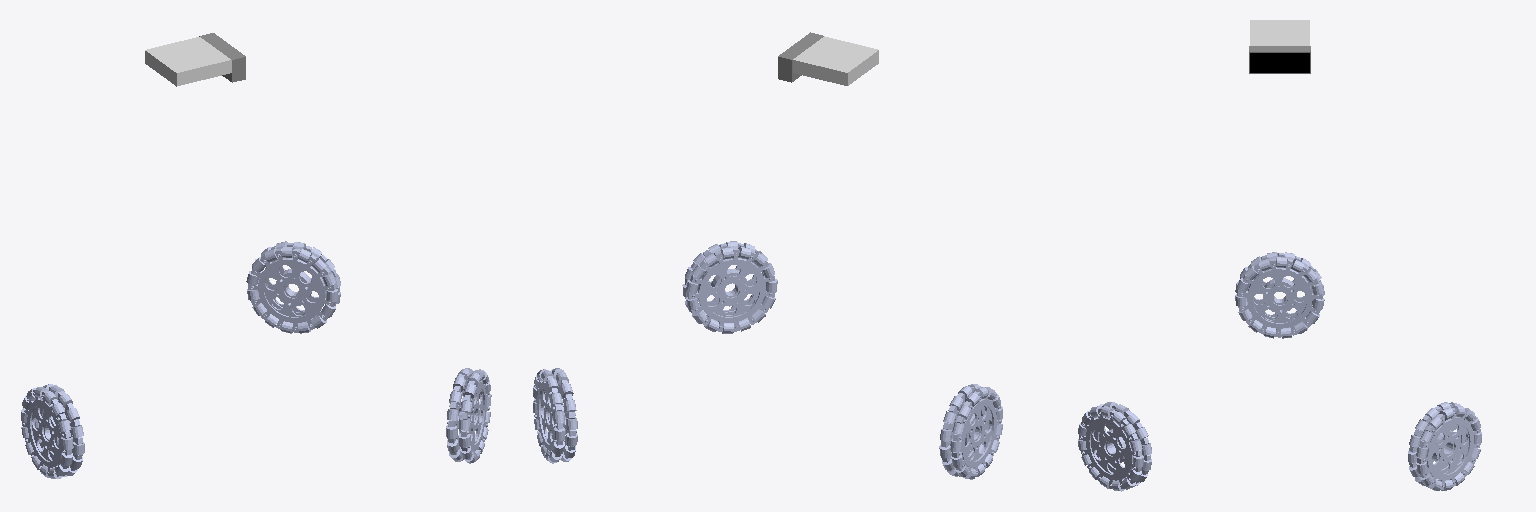
URDF robot description (robotbase):
<?xml version="1.0" encoding="utf-8"?>
<!-- This URDF was automatically created by SolidWorks to URDF Exporter! Originally created by [author] ([email redacted]) 
     Commit Version: 1.5.1-0-g916b5db  Build Version: 1.5.7152.31018
     For more information, please see http://wiki.ros.org/sw_urdf_exporter -->
<robot
  name="robotbase">
  <link name="base_footprint"/>
  <joint name="base_joint" type="fixed">
    <parent link="base_footprint"/>
    <child link="base_link"/>
    <origin xyz="0.0 0.0 0.010" rpy="0 0 -1.5707"/>
  </joint>

  <link
    name="base_link">
    <inertial>
      <origin
        xyz="0.0317095416007534 0.00585954573908961 -0.0152243764730905"
        rpy="0 0 0" />
      <mass
        value="1.17424291261763" />
      <inertia
        ixx="0.00248432843336696"
        ixy="-1.47224274103694E-07"
        ixz="1.4747915255414E-05"
        iyy="0.00646656944346282"
        iyz="1.76186370908733E-06"
        izz="0.00420898613081866" />
    </inertial>
    <visual>
      <origin
        xyz="0 0 0"
        rpy="0 0 0" />
      <geometry>
        <mesh
          filename="package://robotbase/meshes/base_link.STL" />
      </geometry>
      <material
        name="">
        <color
          rgba="0.898039215686275 0.917647058823529 0.929411764705882 1" />
      </material>
    </visual>
    <collision>
      <origin
        xyz="0 0 0"
        rpy="0 0 0" />
      <geometry>
        <mesh
          filename="package://robotbase/meshes/base_link.STL" />
      </geometry>
    </collision>
  </link>
  <link
    name="wheel_1">
    <inertial>
      <origin
        xyz="0.0458771944899619 0.273062342112664 0.00546218671817029"
        rpy="0 0 0" />
      <mass
        value="2.11190311993617" />
      <inertia
        ixx="0.125143591732326"
        ixy="0.0213467042368404"
        ixz="0.00288420835824469"
        iyy="0.133607452018479"
        iyz="0.000848099165999844"
        izz="0.254298069907116" />
    </inertial>
    <visual>
      <origin
        xyz="0 0 0"
        rpy="0 0 0" />
      <geometry>
        <mesh
          filename="package://robotbase/meshes/wheel_1.STL" />
      </geometry>
      <material
        name="">
        <color
          rgba="0.792156862745098 0.819607843137255 0.933333333333333 1" />
      </material>
    </visual>
    <collision>
      <origin
        xyz="0 0 0"
        rpy="0 0 0" />
      <geometry>
        <mesh
          filename="package://robotbase/meshes/wheel_1.STL" />
      </geometry>
    </collision>
  </link>

  <link name = "hokuyo_link">
      <inertial>
          <mass value="0.1" />
          <origin xyz="0 0 0" rpy="0 0 0"/>
          <inertia ixx="1e-6" ixy="0" ixz="0" iyy="1e-6" iyz="0" izz="1e-6" />
      </inertial>
      <collision>
          <origin xyz = "0 0 0" rpy = "0 0 0"/>
          <geometry>
              <cylinder radius="0.05" length="0.1"/>
          </geometry>
      </collision>
      <visual>
          <origin xyz = "0 0 0" rpy = "0 0 0"/>
          <geometry>
              <mesh filename="package://robotbase/meshes/hokuyo.dae"/>
          </geometry>
      </visual>
  </link>

  <joint name ="hokuyo2world" type = "fixed">
      <axis xyz = "0 0 0" />
      <origin xyz="0 0 0.3" rpy="0 0 0"/>
      <parent link="base_footprint"/>
      <child link="hokuyo_link"/>
  </joint>

  <joint
    name="wheel_joint_1"
    type="continuous">
    <origin
      xyz="-0.205579586803807 0.205579586803807 0.025525"
      rpy="-3.12287874080334 0.00789732473317189 0.772154897409695" />
    <parent
      link="base_link" />
    <child
      link="wheel_1" />
    <axis
      xyz="0.0132424659193927 0.9997352674052 -0.0188157434779373" />
  </joint>
  <link
    name="wheel_2">
    <inertial>
      <origin
        xyz="0.0249361037302708 0.344076787772775 -0.00525954032226627"
        rpy="0 0 0" />
      <mass
        value="2.11190311993617" />
      <inertia
        ixx="0.176851164364651"
        ixy="0.0140731171262247"
        ixz="-0.0574672883301494"
        iyy="0.124722094801253"
        iyz="0.016639734965707"
        izz="0.211475854492017" />
    </inertial>
    <visual>
      <origin
        xyz="0 0 0"
        rpy="0 0 0" />
      <geometry>
        <mesh
          filename="package://robotbase/meshes/wheel_2.STL" />
      </geometry>
      <material
        name="">
        <color
          rgba="0.792156862745098 0.819607843137255 0.933333333333333 1" />
      </material>
    </visual>
    <collision>
      <origin
        xyz="0 0 0"
        rpy="0 0 0" />
      <geometry>
        <mesh
          filename="package://robotbase/meshes/wheel_2.STL" />
      </geometry>
    </collision>
  </link>
  <joint
    name="wheel_joint_2"
    type="continuous">
    <origin
      xyz="0.273359702677944 0.273359702677944 0.025524999999999"
      rpy="0.0283684725139944 0.624739352427002 2.37252145313176" />
    <parent
      link="base_link" />
    <child
      link="wheel_2" />
    <axis
      xyz="0.0132424659193958 0.9997352674052 -0.0188157434779366" />
  </joint>
  <link
    name="wheel_3">
    <inertial>
      <origin
        xyz="-0.0153682388591595 0.340029706879059 -0.000428568532610744"
        rpy="0 0 0" />
      <mass
        value="2.11190311993617" />
      <inertia
        ixx="0.158038000924784"
        ixy="0.00285067819372706"
        ixz="-0.0267302850342901"
        iyy="0.108281483822745"
        iyz="0.00660110986486032"
        izz="0.246729628910391" />
    </inertial>
    <visual>
      <origin
        xyz="0 0 0"
        rpy="0 0 0" />
      <geometry>
        <mesh
          filename="package://robotbase/meshes/wheel_3.STL" />
      </geometry>
      <material
        name="">
        <color
          rgba="0.792156862745098 0.819607843137255 0.933333333333333 1" />
      </material>
    </visual>
    <collision>
      <origin
        xyz="0 0 0"
        rpy="0 0 0" />
      <geometry>
        <mesh
          filename="package://robotbase/meshes/wheel_3.STL" />
      </geometry>
    </collision>
  </link>
  <joint
    name="wheel_joint_3"
    type="continuous">
    <origin
      xyz="0 -0.297733077767124 0.025525000000001"
      rpy="-3.11920659587766 -0.263132299010667 3.12787770373792" />
    <parent
      link="base_link" />
    <child
      link="wheel_3" />
    <axis
      xyz="0.0132424659193945 0.9997352674052 -0.0188157434779373" />
  </joint>

  <gazebo reference="wheel_1">
    <mu1>0.1</mu1>
    <mu2>0.1</mu2>
    <kp>500000.0</kp>
    <kd>10.0</kd>
    <minDepth>0.001</minDepth>
    <maxVel>0.1</maxVel>
    <fdir1>1 0 0</fdir1>
    <material>Gazebo/FlatBlack</material>
  </gazebo>

  <gazebo reference="wheel_2">
    <mu1>0.1</mu1>
    <mu2>0.1</mu2>
    <kp>500000.0</kp>
    <kd>10.0</kd>
    <minDepth>0.001</minDepth>
    <maxVel>0.1</maxVel>
    <fdir1>1 0 0</fdir1>
    <material>Gazebo/FlatBlack</material>
  </gazebo>

  <gazebo reference="wheel_3">
    <mu1>0.1</mu1>
    <mu2>0.1</mu2>
    <kp>500000.0</kp>
    <kd>10.0</kd>
    <minDepth>0.001</minDepth>
    <maxVel>0.1</maxVel>
    <fdir1>1 0 0</fdir1>
    <material>Gazebo/FlatBlack</material>
  </gazebo>

  <!-- hokuyo -->
    <gazebo reference="hokuyo_link">
      <sensor type="gpu_ray" name="head_hokuyo_sensor">
        <pose>0 0 0 0 0 0</pose>
        <visualize>true</visualize>
        <update_rate>40</update_rate>
        <ray>
          <scan>
            <horizontal>
              <samples>1080</samples>
              <resolution>1</resolution>
              <min_angle>-2.35619449</min_angle>
              <max_angle>2.35619449</max_angle>
            </horizontal>
          </scan>
          <range>
            <min>0.10</min>
            <max>30.0</max>
            <resolution>0.01</resolution>
          </range>
          <noise>
            <type>gaussian</type>
            <!-- Noise parameters based on published spec for Hokuyo laser
                 achieving "+-30mm" accuracy at range < 10m.  A mean of 0.0m and
                 stddev of 0.01m will put 99.7% of samples within 0.03m of the true
                 reading. -->
            <mean>0.0</mean>
            <stddev>0.01</stddev>
          </noise>
        </ray>
        <plugin name="gazebo_ros_hokuyo_controller" filename="libgazebo_ros_gpu_laser.so">
          <topicName>/scan</topicName>
          <frameName>hokuyo_link</frameName>
        </plugin>
      </sensor>
    </gazebo>

    <gazebo>
    <!-- If not have roopod_control_plugin -->
    <!-- <plugin name="object_controller" filename="libgazebo_ros_planar_move.so">
      <commandTopic>cmd_vel</commandTopic>
      <odometryTopic>odom</odometryTopic>
      <odometryFrame>odom</odometryFrame>
      <odometryRate>20.0</odometryRate>
      <robotbaseFrame>base_footprint</robotbaseFrame>
    </plugin> -->

    <!-- From lib fix slow gravity -->
    <plugin name="object_controller" filename="libropod_control_plugin.so">
      <commandTopic>cmd_vel</commandTopic>
      <odometryTopic>odom</odometryTopic>
      <odometryFrame>odom</odometryFrame>
      <odometryRate>20.0</odometryRate>
      <robotbaseFrame>base_footprint</robotbaseFrame>
    </plugin>
  </gazebo>

  <material name="black">
    <color rgba="0. 0. 0. 1" />
    <ambient>0.5 0.75 0 1</ambient>
    <diffuse>0 0 0 1</diffuse>
    <specular>0.2 0.2 0.2 64</specular>
    <emissive>0.1 0 0.1 1</emissive>
  </material>
  <material name="grey">
    <color rgba="0.6 0.6 0.6 1" />
    <ambient>0.5 0.75 0 1</ambient>
    <diffuse>0.6 0.6 0.6 1</diffuse>
    <specular>0.2 0.2 0.2 64</specular>
    <emissive>0.1 0 0.1 1</emissive>
  </material>
  <material name="white">
    <color rgba="0.9 0.9 0.9 1" />
    <ambient>0.5 0.75 0 1</ambient>
    <diffuse>0.9 0.9 0.9 1</diffuse>
    <specular>0.2 0.2 0.2 64</specular>
    <emissive>0.1 0 0.1 1</emissive>
  </material>

  <joint name = "camera_joint" type = "fixed">
      <axis xyz = "0 0 0" />
      <origin xyz="0 0 0.6" rpy="0 0 1.5707"/>
      <parent link="base_link"/>
      <child link="camera_base_link"/>
  </joint>

  <link name="camera_body">
    <inertial>
        <mass value="0.1" />
        <origin xyz="0 0 0" rpy="0 0 0"/>
        <inertia ixx="1e-6" ixy="0" ixz="0" iyy="1e-6" iyz="0" izz="1e-6" />
    </inertial>
    <collision>
        <origin xyz = "0 0 0" rpy = "0 0 0"/>
        <geometry>
            <box size="0.0994 0.0996 0.023" />
        </geometry>
    </collision>
    <visual>
      <origin xyz="0. 0. 0." />
      <geometry>
        <box size="0.0994 0.0996 0.023" />
      </geometry>
      <material name="white" />
    </visual>
  </link>

  <link name = "camera_base_link">
    <inertial>
        <mass value="0.1" />
        <origin xyz="0 0 0" rpy="0 0 0"/>
        <inertia ixx="1e-6" ixy="0" ixz="0" iyy="1e-6" iyz="0" izz="1e-6" />
    </inertial>
    <collision>
        <origin xyz = "-0.013 0. 0." rpy = "0 0 0"/>
        <geometry>
            <box size="0.026 0.103 0.039" />
        </geometry>
    </collision>
    <visual>
      <origin xyz="-0.013 0. 0." />
      <geometry>
        <box size="0.026 0.103 0.039" />
      </geometry>
      <material name="grey" />
    </visual>
  </link>

  <link name = "camera_visor">
    <inertial>
        <mass value="0.1" />
        <origin xyz="0 0 0" rpy="0 0 0"/>
        <inertia ixx="1e-6" ixy="0" ixz="0" iyy="1e-6" iyz="0" izz="1e-6" />
    </inertial>
    <collision>
        <origin xyz = "-0.0128 0. 0." rpy = "0 0 0"/>
        <geometry>
            <box size="0.026 0.101 0.037" />
        </geometry>
    </collision>
    <visual>
      <origin xyz="-0.0128 0. 0." />
      <geometry>
        <box size="0.026 0.101 0.037" />
      </geometry>
      <material name="black" />
    </visual>
  </link>

  <joint name="camera_base_to_body" type="fixed">
    <parent link="camera_base_link" />
    <child link="camera_body" />
    <origin xyz="-0.0757 0. 0.008" rpy="0. 0. 0." />
  </joint>

  <joint name="camera_base_to_visor" type="fixed">
    <parent link="camera_base_link" />
    <child link="camera_visor" />
    <origin xyz="0. 0. 0." rpy="0. 0. 0." />
  </joint>
  
  <link name = "optical_link">
        <!-- <inertial>
            <mass value="0.1" />
            <origin xyz="0 0 0" rpy="0 0 0"/>
            <inertia ixx="1e-6" ixy="0" ixz="0" iyy="1e-6" iyz="0" izz="1e-6" />
        </inertial>
        <collision>
            <origin xyz = "0 0 0" rpy = "0 0 0"/>
            <geometry>
                <cylinder radius="0.02" length="0.02"/>
            </geometry>
        </collision>
        <visual>
            <origin xyz = "0 0 0" rpy = "0 0 0"/>
            <geometry>
                <cylinder radius="0.02" length="0.02"/>
            </geometry>
        </visual> -->
    </link>

  <joint name = "optical_joint" type = "fixed">
      <axis xyz = "0 0 0" />
      <origin xyz="0 0 0" rpy="-1.5708 0 -1.5708"/>
      <parent link="camera_visor"/>
      <child link="optical_link"/>
  </joint>
  

  <gazebo reference="camera_base_link">
    <sensor name="rgbd_camera" type="depth">
      <update_rate>30</update_rate>
      <camera>
        <horizontal_fov>1.11697778</horizontal_fov>
        <vertical_fov>0.6283</vertical_fov>
        <image>
          <width>1280</width>
          <height>720</height>
          <format>B8G8R8</format>
        </image>
        <depth_camera>
          <output>depths</output>
        </depth_camera>
        <clip>
          <near>0.1</near>
          <far>1000.0</far>
        </clip>
      </camera>
      <plugin name="rgbd_controller" filename="libgazebo_ros_openni_kinect.so">
        <baseline>0.2</baseline>
        <alwaysOn>true</alwaysOn>
        <updateRate>30.0</updateRate>
        <cameraName>rgbd_ir</cameraName>
        <imageTopicName>/rgbd/color/image_raw</imageTopicName>
        <cameraInfoTopicName>/rgbd/color/camera_info</cameraInfoTopicName>
        <depthImageTopicName>/rgbd/depth/image_raw</depthImageTopicName>
        <depthImageInfoTopicName>/rgbd/depth/camera_info</depthImageInfoTopicName>
        <pointCloudTopicName>/rgbd/depth/points</pointCloudTopicName>
        <frameName>optical_link</frameName>
        <pointCloudCutoff>0.5</pointCloudCutoff>
        <pointCloudCutoffMax>20</pointCloudCutoffMax>
        <distortionK1>0.00000001</distortionK1>
        <distortionK2>0.00000001</distortionK2>
        <distortionK3>0.00000001</distortionK3>
        <distortionT1>0.00000001</distortionT1>
        <distortionT2>0.00000001</distortionT2>
        <CxPrime>0</CxPrime>
        <Cx>0</Cx>
        <Cy>0</Cy>
        <focalLength>0</focalLength>
        <hackBaseline>0</hackBaseline>
      </plugin>
    </sensor>
  </gazebo>

  <gazebo reference="camera_body">
    <material>Gazebo/White </material>
  </gazebo>
  <gazebo reference="camera_base_link">
    <material>Gazebo/Grey</material>
  </gazebo>
  <gazebo reference="camera_visor">
    <material>Gazebo/Black </material>
  </gazebo>

</robot>

--- Facts derived from the render (not from the file) ---
3 views of the same robot in one strip: view 1: azimuth 30°, elevation 25°; view 2: azimuth 150°, elevation 25°; view 3: azimuth 270°, elevation 25° (orthographic).
Model robotbase with 10 links and 9 joints (3 continuous, 6 fixed), rooted at base_footprint, posed all joints at 0.
Visible links, largest first — view 1: wheel_1, wheel_3, wheel_2, camera_body, camera_base_link; view 2: wheel_2, wheel_3, wheel_1, camera_body, camera_base_link; view 3: wheel_3, wheel_1, wheel_2, camera_body, camera_visor, camera_base_link.
Boxes of the visible links, x1,y1,x2,y2 form: wheel_1: [246, 241, 340, 333]; wheel_3: [21, 384, 84, 478]; wheel_2: [446, 368, 491, 463]; camera_body: [145, 37, 231, 86]; camera_base_link: [199, 33, 245, 82]; wheel_2: [682, 241, 777, 333]; wheel_3: [939, 384, 1002, 479]; wheel_1: [533, 368, 577, 463]; camera_body: [793, 36, 878, 85]; camera_base_link: [778, 32, 823, 82]; wheel_3: [1235, 252, 1324, 338]; wheel_1: [1408, 402, 1481, 490]; wheel_2: [1078, 402, 1151, 491]; camera_body: [1250, 20, 1309, 45]; camera_visor: [1250, 53, 1309, 72]; camera_base_link: [1249, 46, 1310, 73].
Size in the robot's own frame: 0.6753 by 0.6716 by 0.6686 metres.
3 mesh visuals loaded from 5 distinct referenced files (3 binary STL); not drawn: 2 (reference not matched to a file when rendering).